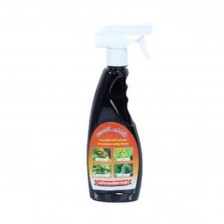insecticide: (82, 19, 156, 205)
